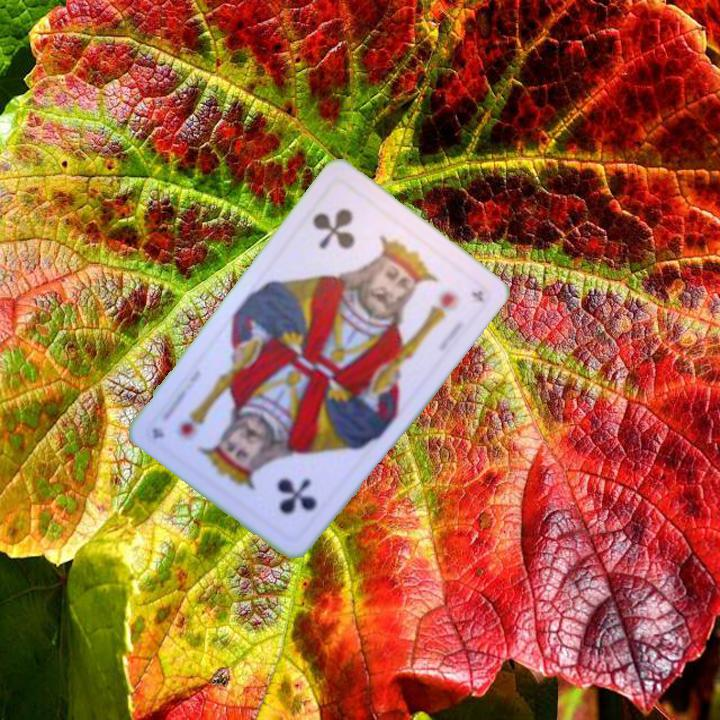c_k.png: (219, 420, 349, 547), (287, 175, 417, 302)
